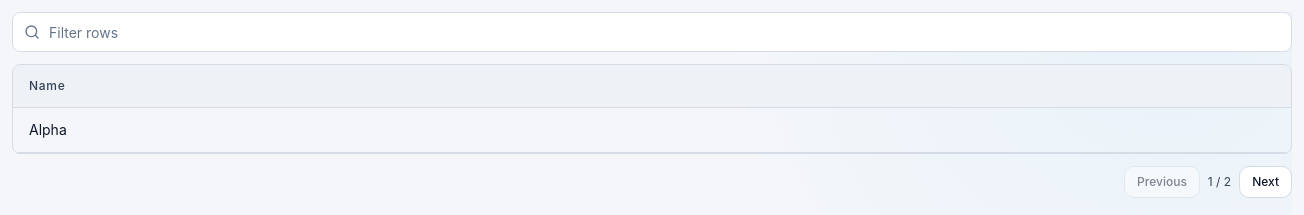
Test: phase 11a design system › filters and paginates table rows
The image size is (1304, 215).
Expected: the text "Alpha" is shown, top-left (13, 108), bottom-right (1291, 152)
Click the button "Next": (1266, 182) top-left (1239, 166), bottom-right (1292, 198)
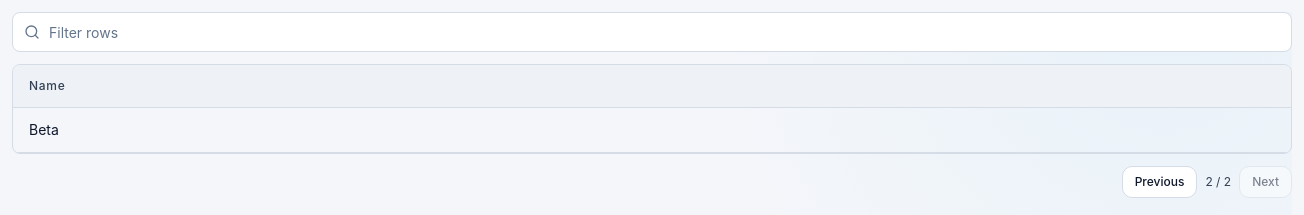
Now the text "Beta" is shown, box top-left (13, 108), bottom-right (1291, 152)
